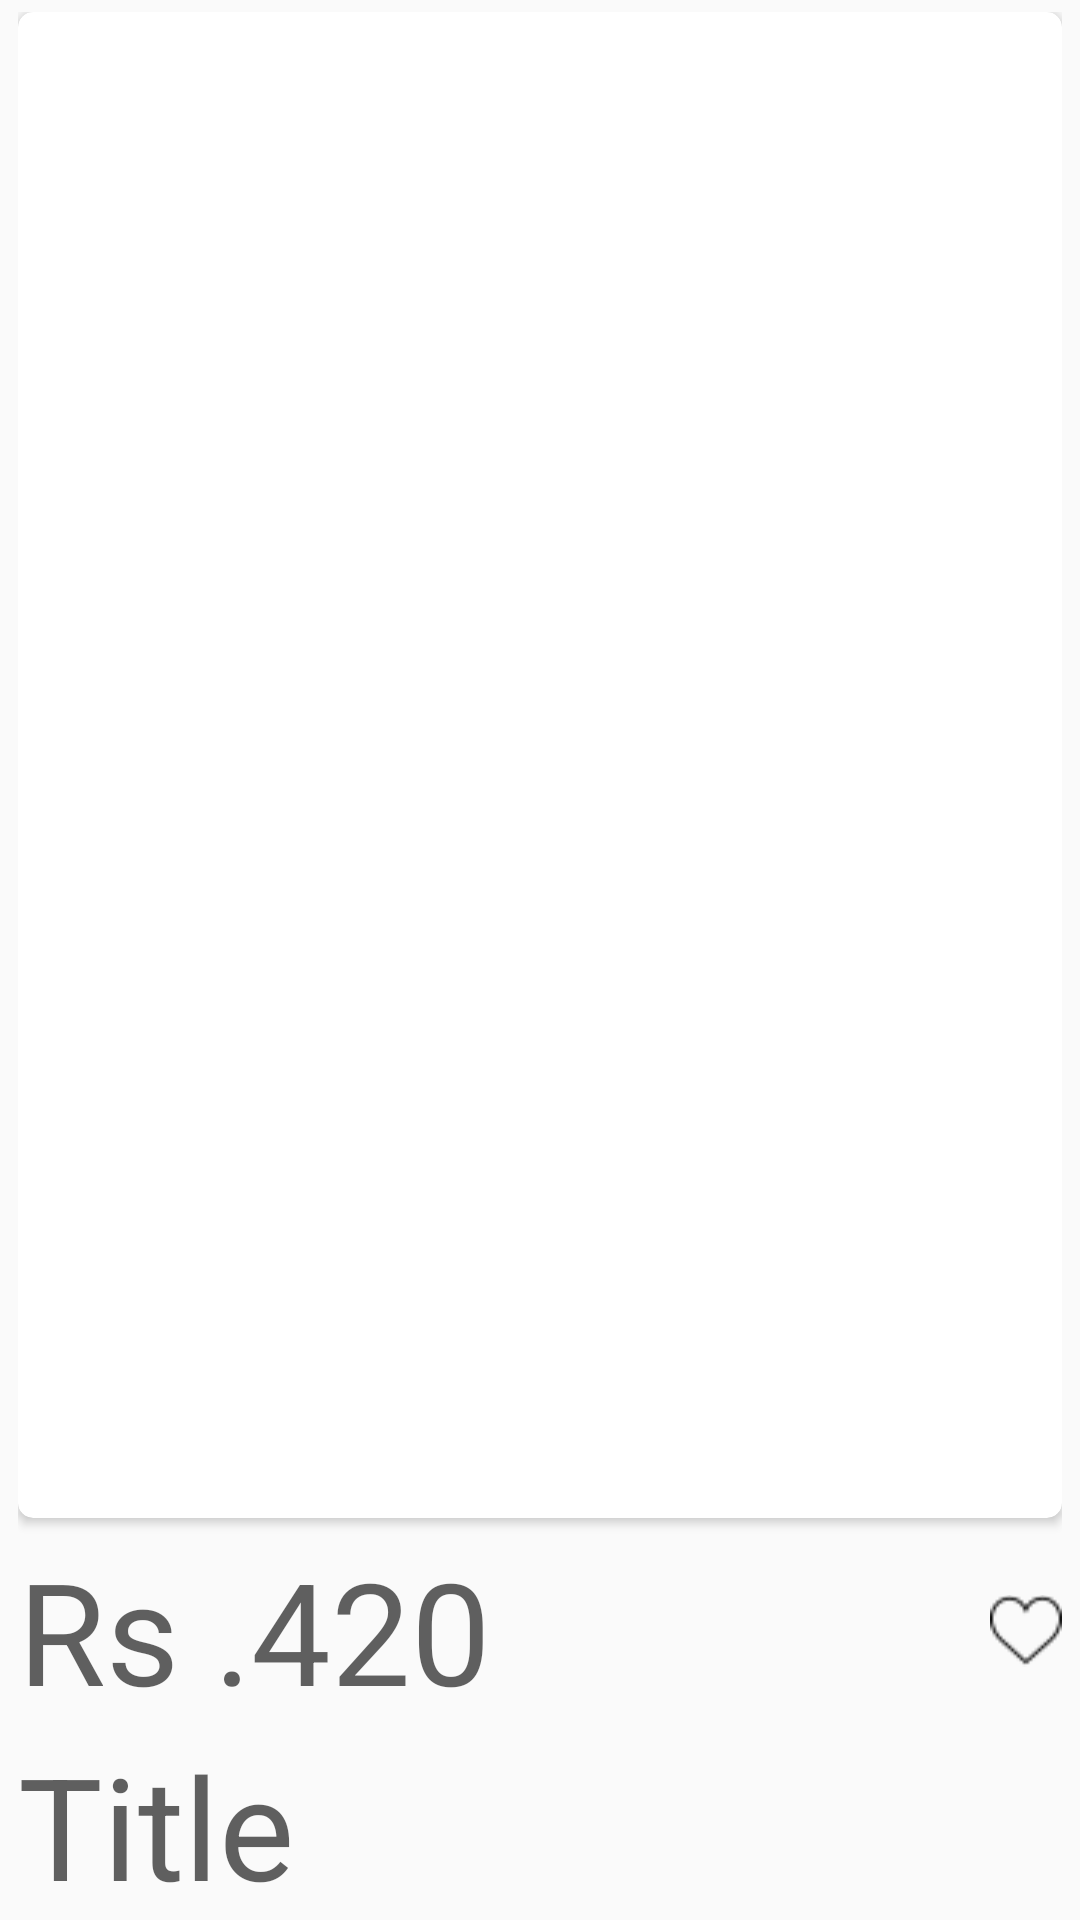

Where icons sit on this 1080 × 1920 app screen, as (x1, y1, x2, y2):
like: (990, 1595, 1062, 1665)
